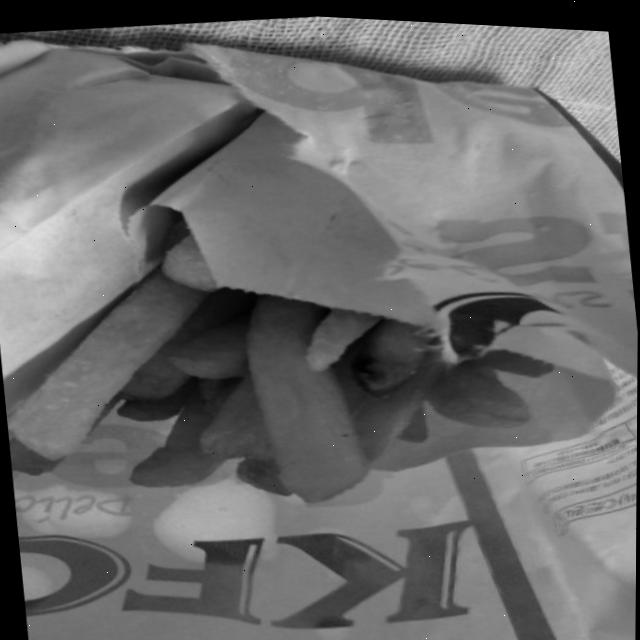炸货点心: (0, 97, 634, 519)
